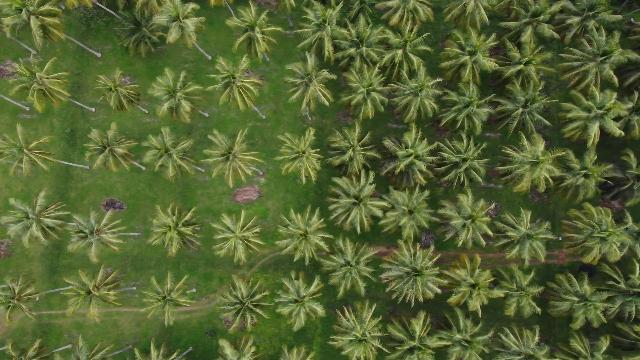trees: (557, 32, 636, 103), (544, 271, 629, 330), (494, 134, 571, 197), (560, 206, 637, 267), (377, 242, 447, 308), (1, 187, 73, 250), (557, 92, 631, 151), (489, 79, 561, 139), (63, 205, 135, 263), (490, 206, 558, 267), (5, 58, 77, 115), (61, 265, 130, 323), (225, 3, 288, 66), (319, 238, 382, 301), (200, 128, 266, 188), (374, 19, 434, 85), (436, 256, 503, 315), (428, 132, 494, 191), (440, 29, 501, 92), (329, 172, 390, 234), (215, 274, 278, 334), (436, 192, 501, 250), (206, 57, 269, 116), (383, 127, 444, 187), (383, 68, 445, 127), (434, 83, 499, 139), (1, 1, 69, 54), (329, 303, 393, 359), (275, 208, 333, 269), (340, 61, 397, 123), (301, 4, 355, 69), (378, 185, 437, 244), (139, 273, 201, 329), (336, 18, 391, 81), (283, 55, 335, 121), (211, 210, 271, 267), (148, 69, 209, 125), (141, 128, 203, 183), (379, 312, 449, 360), (428, 308, 495, 358), (326, 123, 383, 181), (147, 202, 205, 258), (112, 5, 170, 61), (1, 123, 61, 177), (274, 275, 327, 333), (492, 266, 548, 320), (85, 123, 143, 174), (277, 128, 326, 184), (156, 2, 207, 53), (95, 69, 146, 116), (2, 274, 43, 325), (494, 326, 553, 360), (378, 2, 438, 33), (64, 336, 123, 360), (133, 338, 188, 360), (6, 338, 55, 360)
